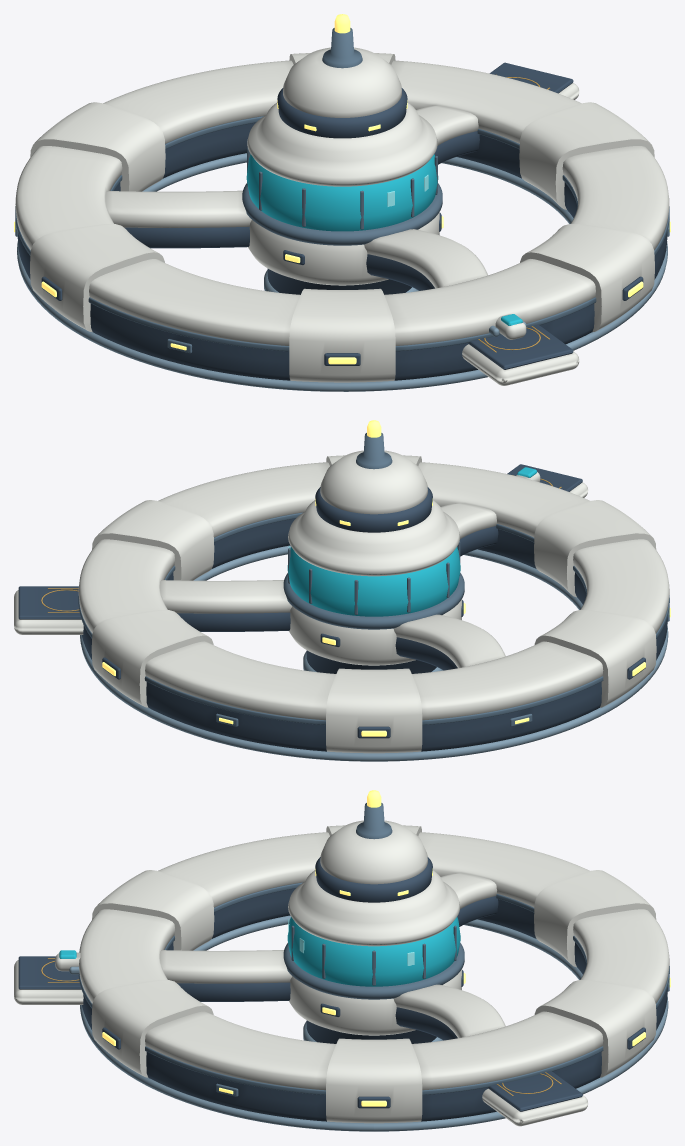
Rendered from galaxy_core.glb.
3 renders of one model, top to bottom at view 1: azimuth 30°, elevation 25°; view 2: azimuth 150°, elevation 25°; view 3: azimuth 270°, elevation 25°, orthographic. The views are drawn at different scales.
Parts seen in each view (by area): view 1: Structure; view 2: Structure; view 3: Structure.
Boxes of the visible parts, box(x1,y1,x2,y2) form: Structure: box(14, 14, 670, 391); Structure: box(14, 420, 670, 761); Structure: box(14, 790, 670, 1131).
Bounding box in the file's own units: 24.07 × 11.16 × 24.81.
